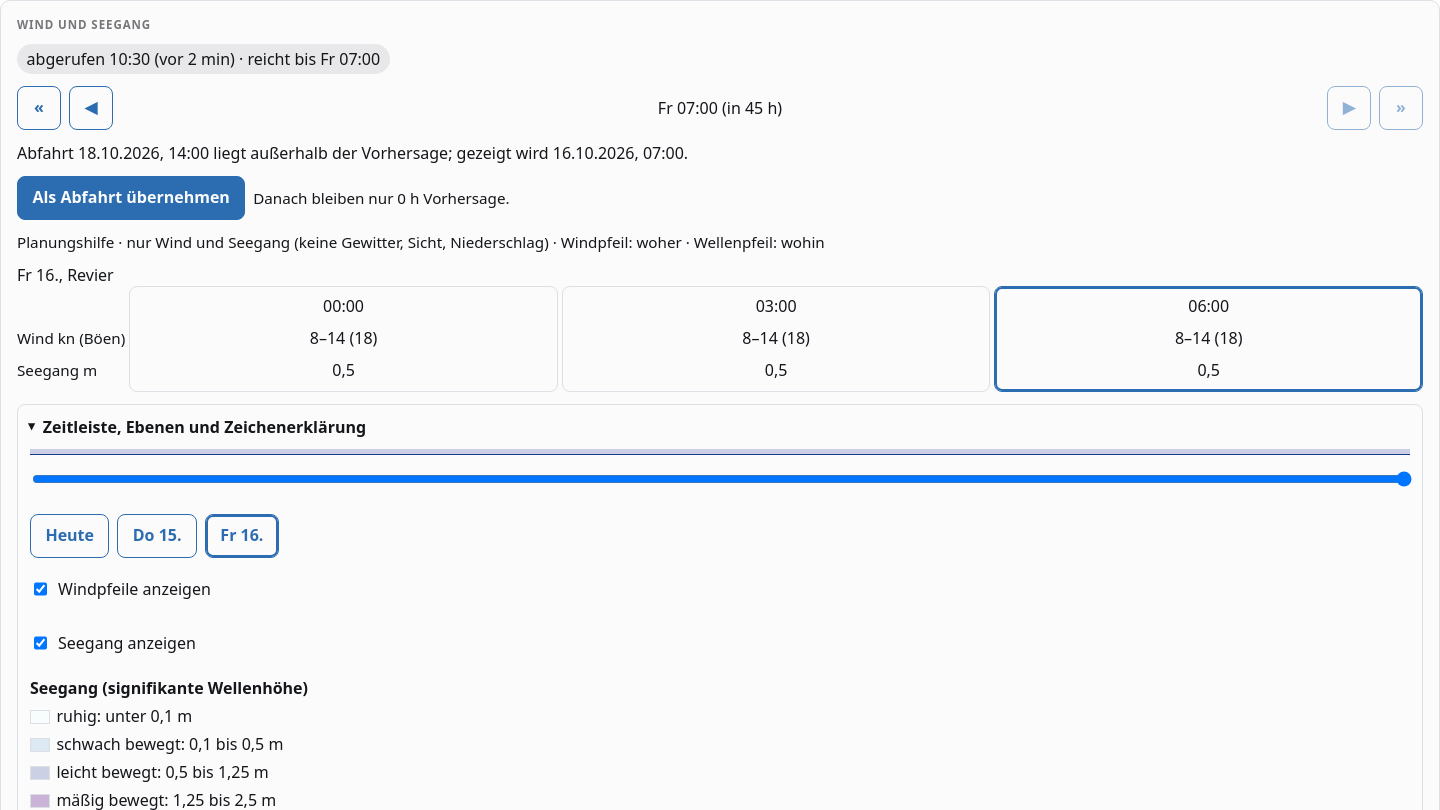
#1854 day strip, sea ribbon and area line › a column click is a user step: it retires the clamped-seed note
Check: the text "liegt außerhalb der Vorhersage" is shown, box x1=17 y1=142 x2=688 y2=164
Click the button "00:00 8–14 (18) 0,5". click: click(344, 339)
box: x1=129 y1=286 x2=558 y2=392
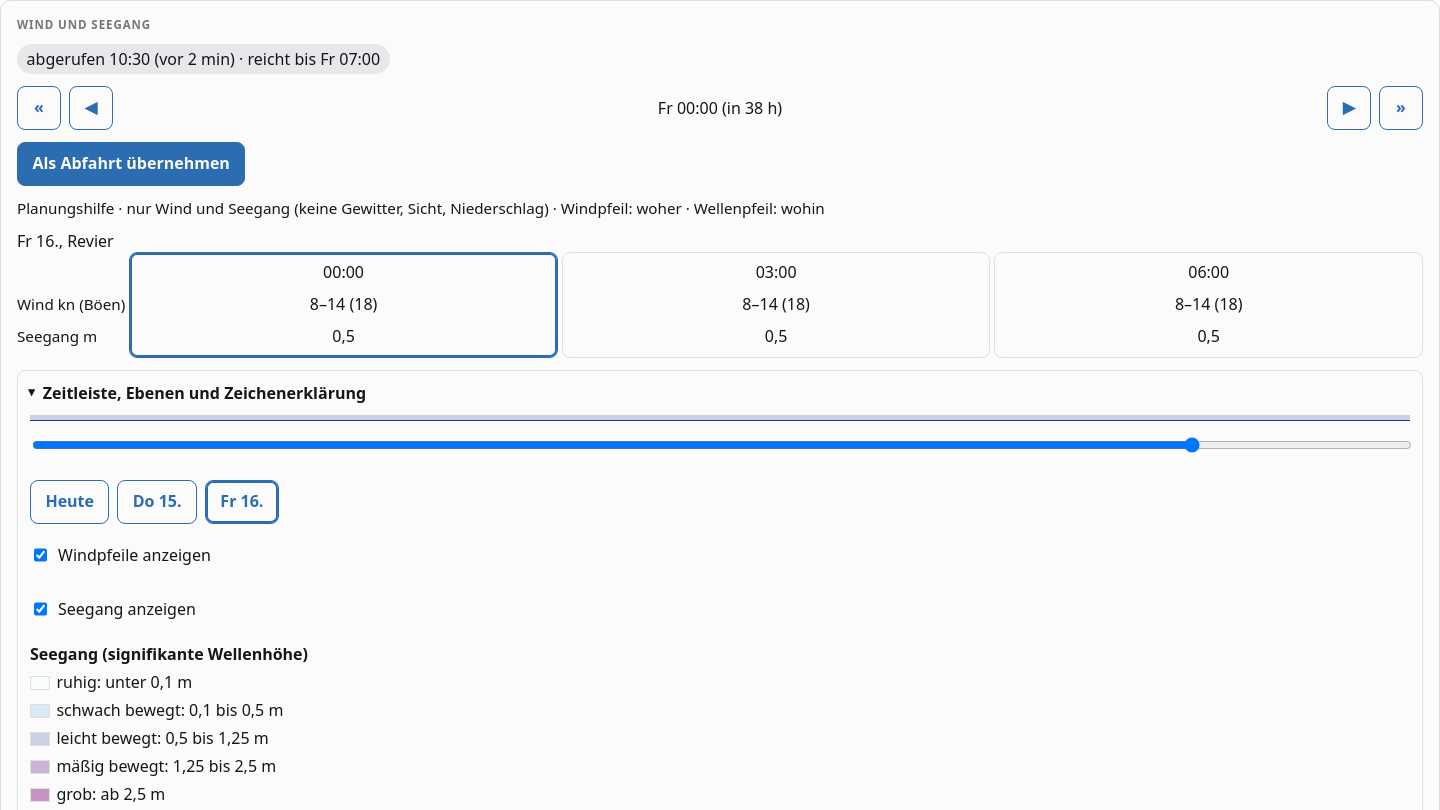
Check: the text "liegt außerhalb der Vorhersage" is gone
